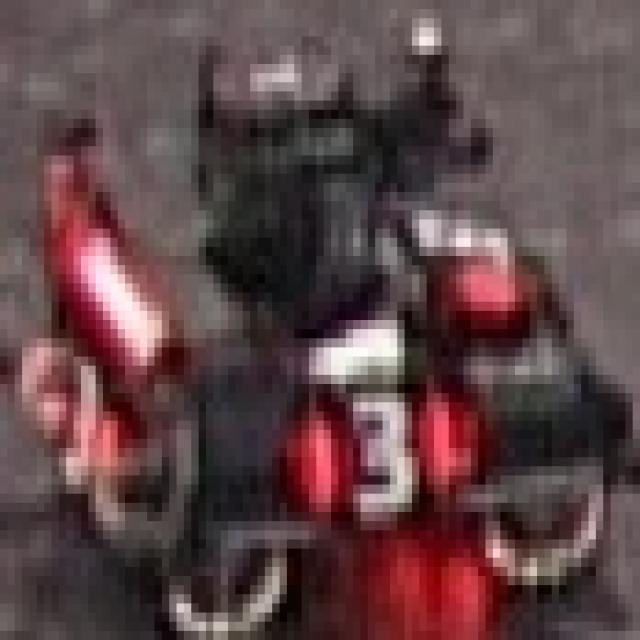R3: (268, 370, 474, 526), (390, 160, 537, 325), (26, 352, 128, 489)
